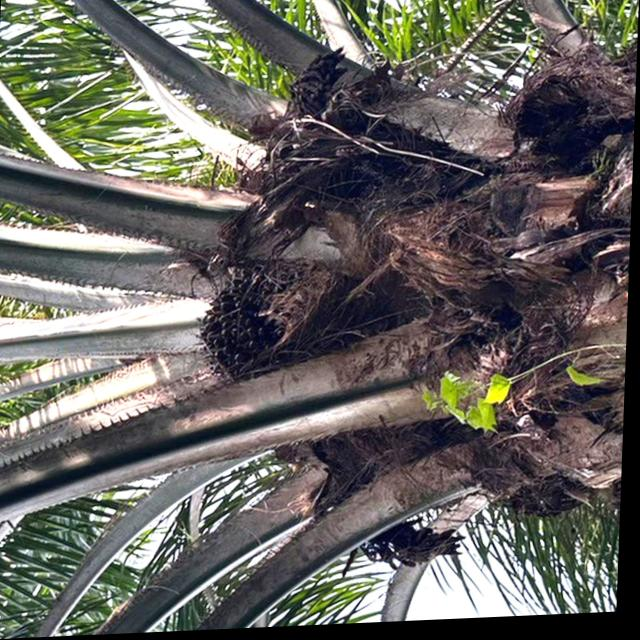almost: (189, 250, 391, 400)
